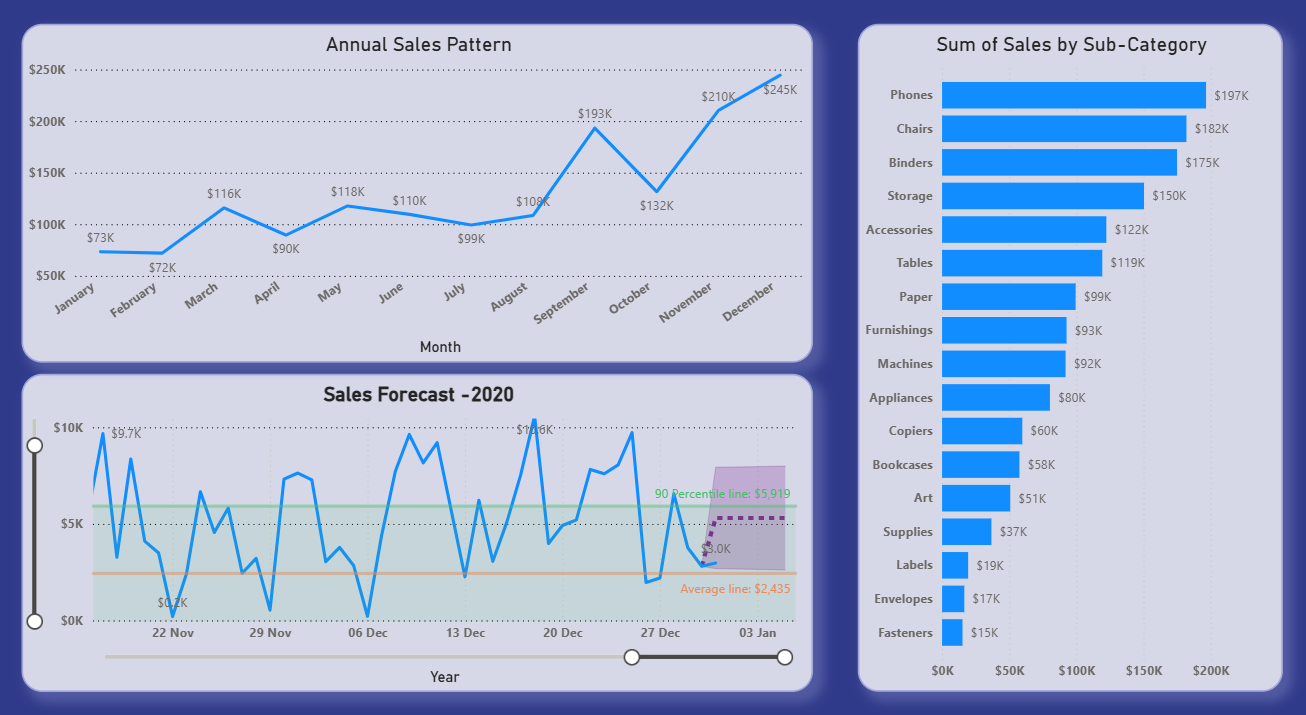

The dashboard page shown, as its layout file describes it:
{"tool":"powerbi","page":{"name":"Forecast","canvas":[1280,720],"ordinal":1},"visuals":[{"type":"lineChart","title":"Sales Forecast -2020","fields":{"Y":["Sum(SuperStore_Sales_Dataset.Sales)"],"Category":["SuperStore_Sales_Dataset.Order Date.Variation.Date Hierarchy.Year","SuperStore_Sales_Dataset.Order Date.Variation.Date Hierarchy.Month","SuperStore_Sales_Dataset.Order Date.Variation.Date Hierarchy.Day"]},"box":[31.2,370,763.8,307.5],"z":0},{"type":"lineChart","title":"Annual Sales Pattern","fields":{"Y":["Sum(SuperStore_Sales_Dataset.Sales)"],"Category":["SuperStore_Sales_Dataset.Order Date.Variation.Date Hierarchy.Month"]},"box":[31.2,32.5,763.8,327.5],"z":1000},{"type":"clusteredBarChart","fields":{"Category":["SuperStore_Sales_Dataset.Sub-Category"],"Y":["Sum(SuperStore_Sales_Dataset.Sales)"]},"box":[838.8,32.5,410,645],"z":1001}]}

Visuals, with their boxes in screenshot pixels (x1, y1, x2, y2), scaled from the page's 1280x720 canvas onto the 1306x715 screenshot:
"Sales Forecast -2020" lineChart: (32,367,811,673)
"Annual Sales Pattern" lineChart: (32,32,811,358)
clusteredBarChart - SuperStore_Sales_Dataset.Sub-Category x Sum(SuperStore_Sales_Dataset.Sales): (856,32,1274,673)
